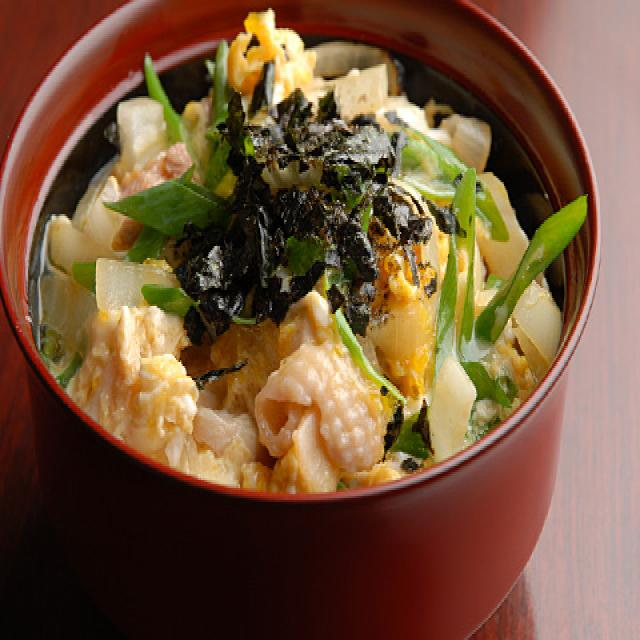米饭主食: (0, 0, 604, 640)
